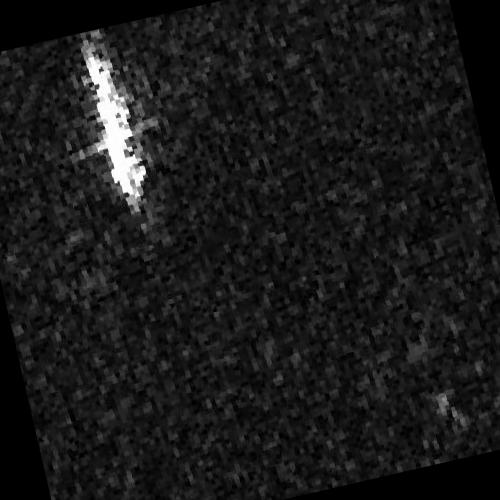ship: (85, 42, 147, 207)
